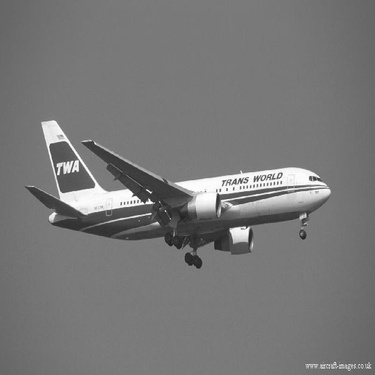airplane: (25, 94, 343, 273)
